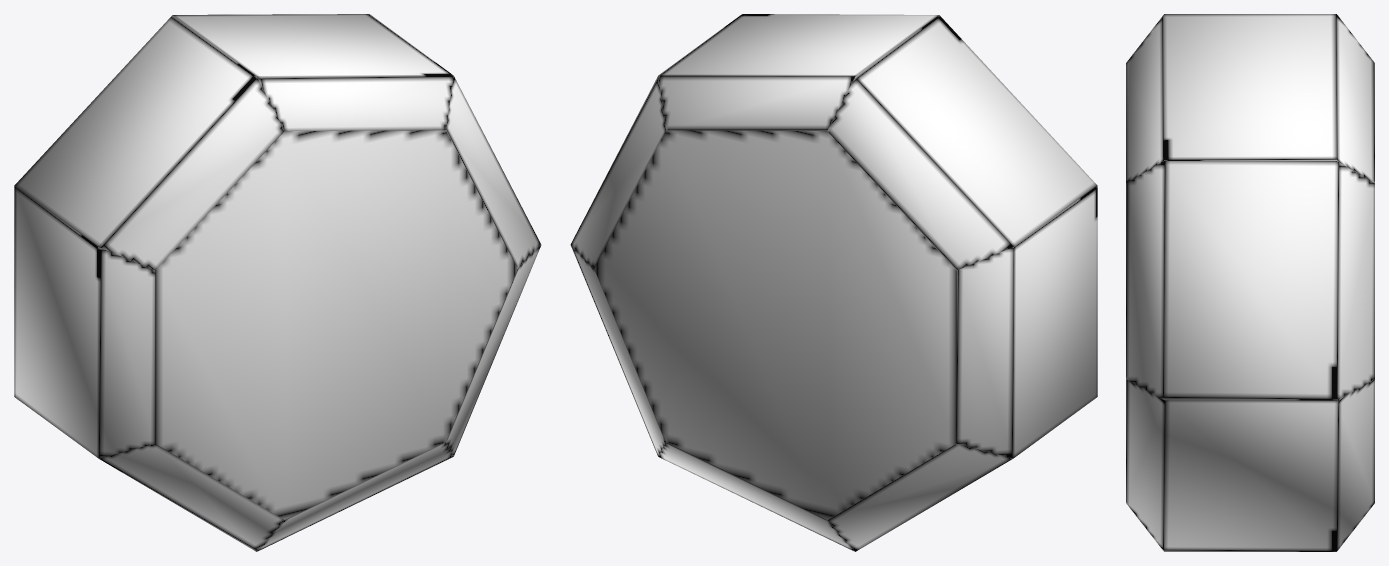
File: rad.obj
3 renders of one model, left to right at view 1: azimuth 30°, elevation 25°; view 2: azimuth 150°, elevation 25°; view 3: azimuth 270°, elevation 25°, orthographic. The views are drawn at different scales.
Visible parts, largest first — view 1: cube1_sep54; view 2: cube1_sep54; view 3: cube1_sep54.
Boxes of the visible parts, box(x1,y1,x2,y2) form: cube1_sep54: box(14, 14, 541, 551); cube1_sep54: box(570, 14, 1097, 551); cube1_sep54: box(1126, 14, 1374, 551).
Bounding box in the file's own units: 3.02 × 3.09 × 1.43.
1 material, 1 textured.
